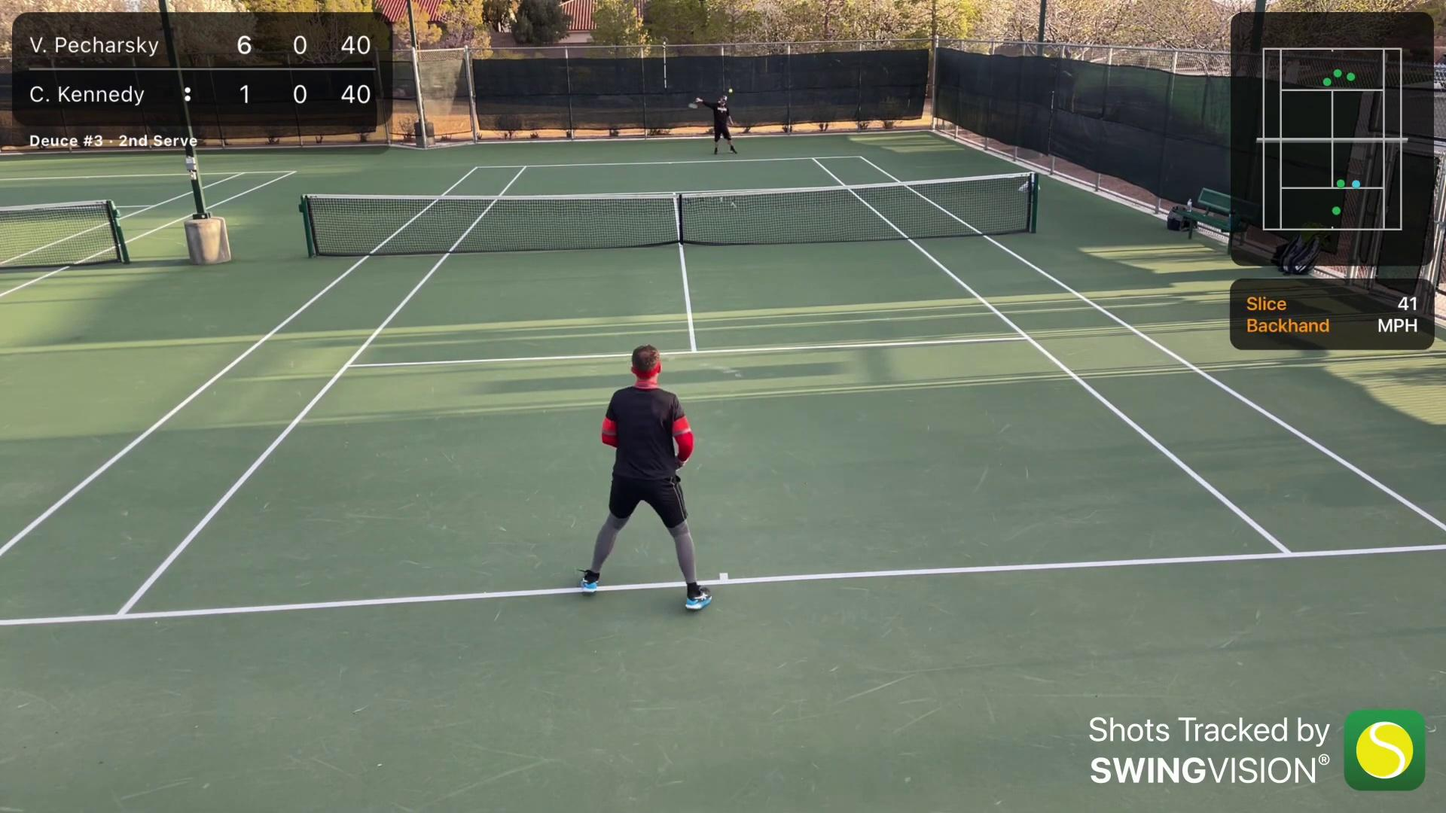ball: (728, 87, 734, 93)
